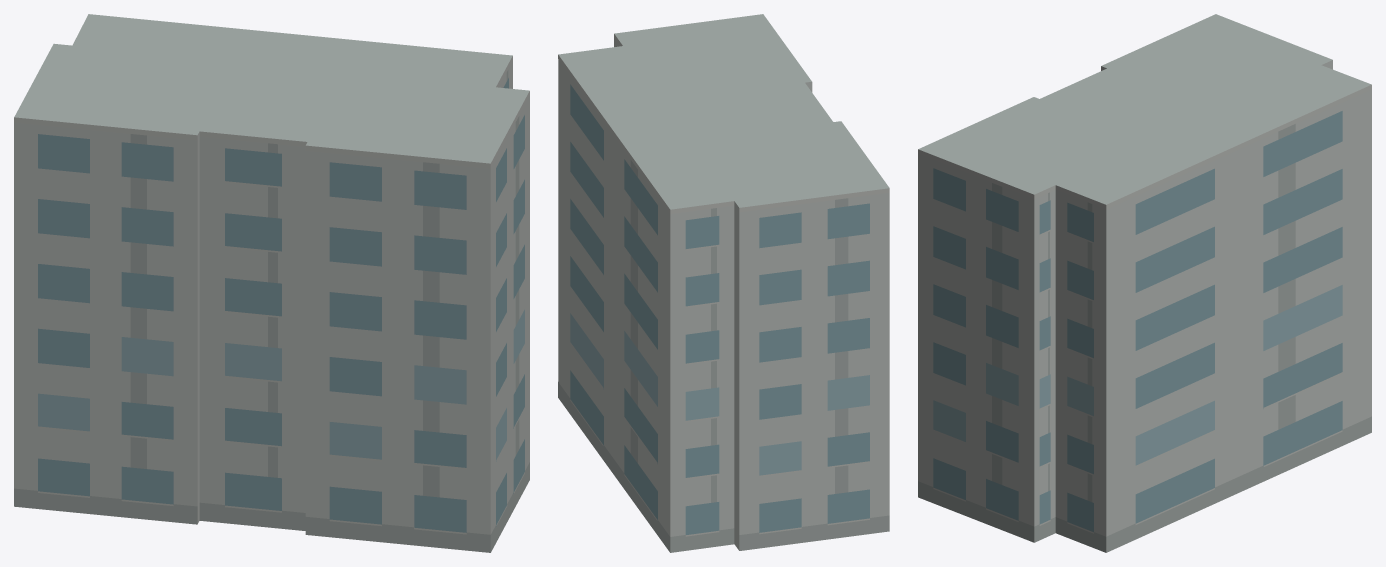
File: survey-upis-33043838.glb
3 views of the same model, side by side, from view 1: azimuth 30°, elevation 25°; view 2: azimuth 150°, elevation 25°; view 3: azimuth 270°, elevation 25° (orthographic). The views are drawn at different scales.
Parts seen in each view (by area): view 1: survey-upis-33043838.tmp; view 2: survey-upis-33043838.tmp; view 3: survey-upis-33043838.tmp.
Boxes of the visible parts, box(x1,y1,x2,y2) form: survey-upis-33043838.tmp: box(14, 14, 529, 552); survey-upis-33043838.tmp: box(558, 14, 889, 552); survey-upis-33043838.tmp: box(918, 14, 1371, 552).
Bounding box in the file's own units: 21.53 × 18.3 × 21.63.
